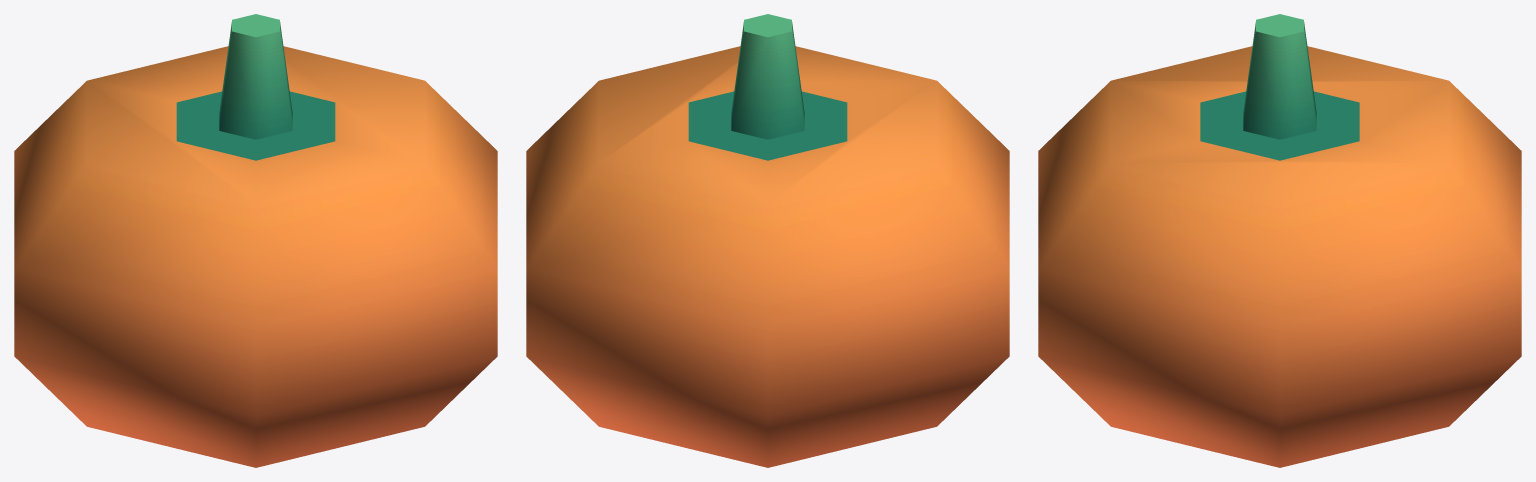
Rendered from pumpkin-basic.glb.
The picture shows the model from 3 angles, left to right: view 1: azimuth 30°, elevation 25°; view 2: azimuth 150°, elevation 25°; view 3: azimuth 270°, elevation 25°; orthographic projection.
Visible parts, largest first — view 1: pumpkin-basic; view 2: pumpkin-basic; view 3: pumpkin-basic.
Part boxes in pixels (box(x1,y1,x2,y2)): pumpkin-basic: box(14, 14, 497, 467); pumpkin-basic: box(526, 14, 1009, 467); pumpkin-basic: box(1038, 14, 1521, 467).
Bounding box in the file's own units: 0.42 × 0.299 × 0.3638.
1 material, 1 textured.
